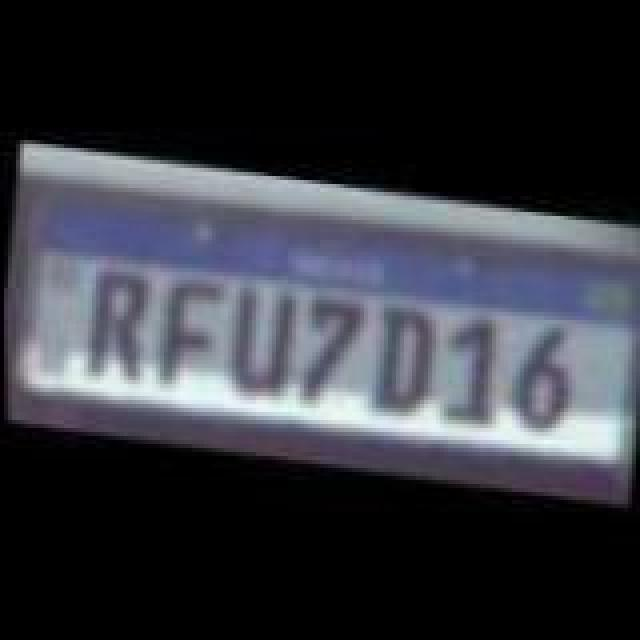1: (436, 306, 516, 430)
6: (500, 316, 580, 432)
7: (290, 286, 366, 410)
D: (364, 298, 444, 426)
F: (144, 276, 232, 404)
R: (78, 270, 154, 390)
U: (218, 278, 302, 402)
